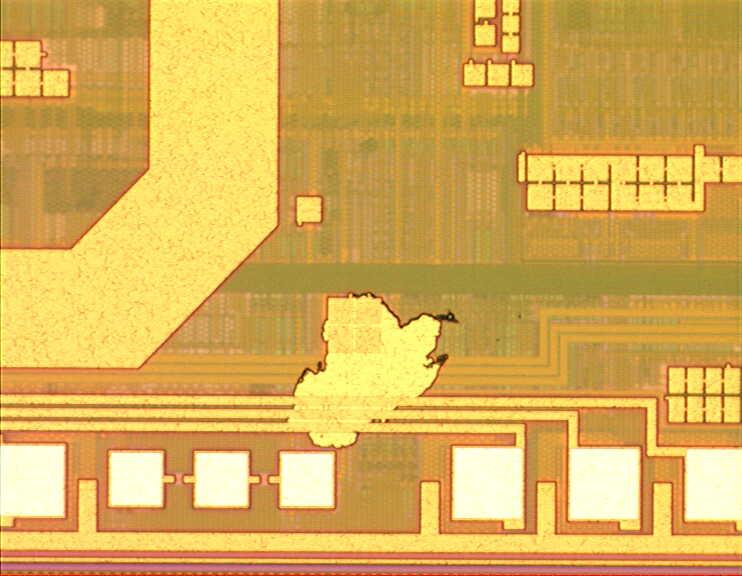BLOCK ETCH: (285, 284, 467, 458)
